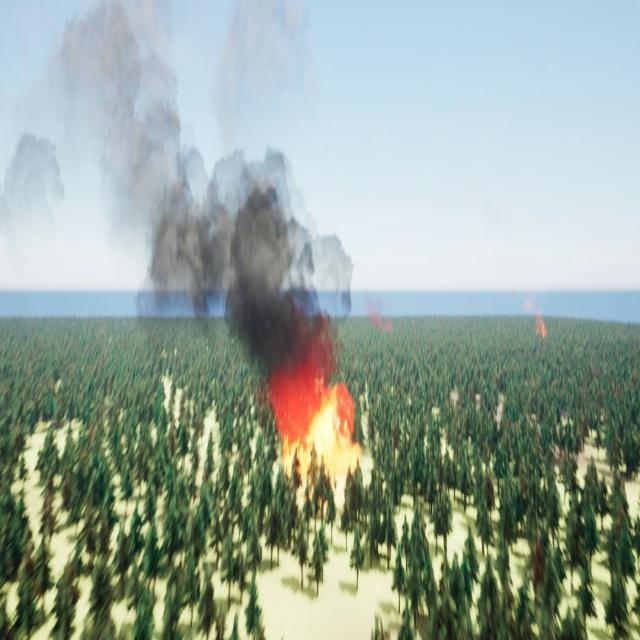fire: (280, 385, 362, 479)
smoke: (4, 0, 359, 378), (524, 299, 545, 337), (368, 298, 392, 330)
